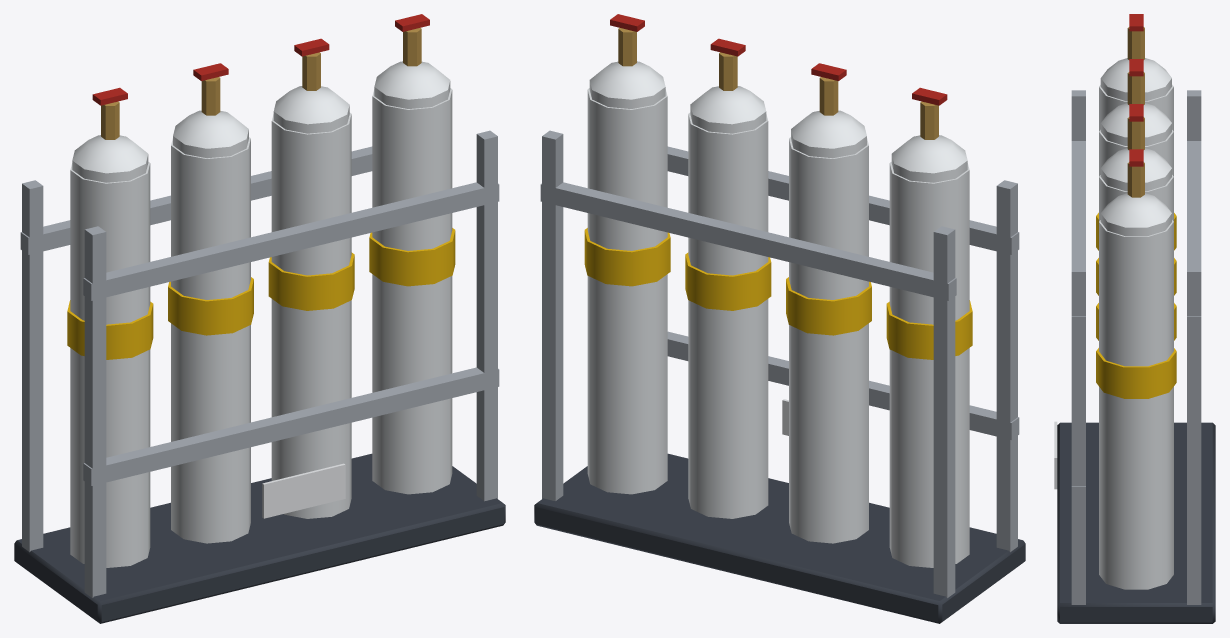
Rendered from tank_deuterium_bottle_rack.glb.
3 renders of one model, left to right at view 1: azimuth 30°, elevation 25°; view 2: azimuth 150°, elevation 25°; view 3: azimuth 270°, elevation 25°, orthographic. The views are drawn at different scales.
Parts seen in each view (by area): view 1: tank_deuterium_bottle_rack; view 2: tank_deuterium_bottle_rack; view 3: tank_deuterium_bottle_rack.
Part boxes in pixels (box(x1,y1,x2,y2)): tank_deuterium_bottle_rack: box(14, 14, 505, 623); tank_deuterium_bottle_rack: box(534, 14, 1025, 623); tank_deuterium_bottle_rack: box(1054, 14, 1215, 623).
Size of the model in its own units: 1.5 by 1.71 by 0.56.
